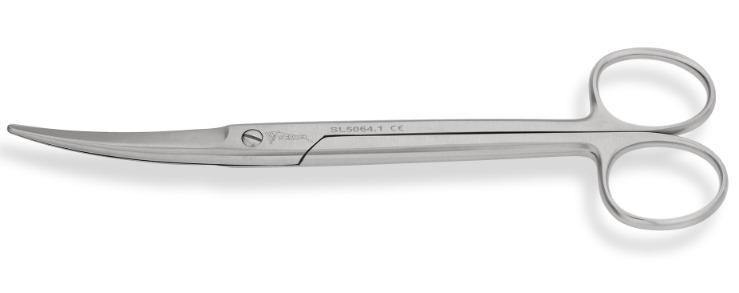Curved Mayo: (4, 39, 731, 235)
